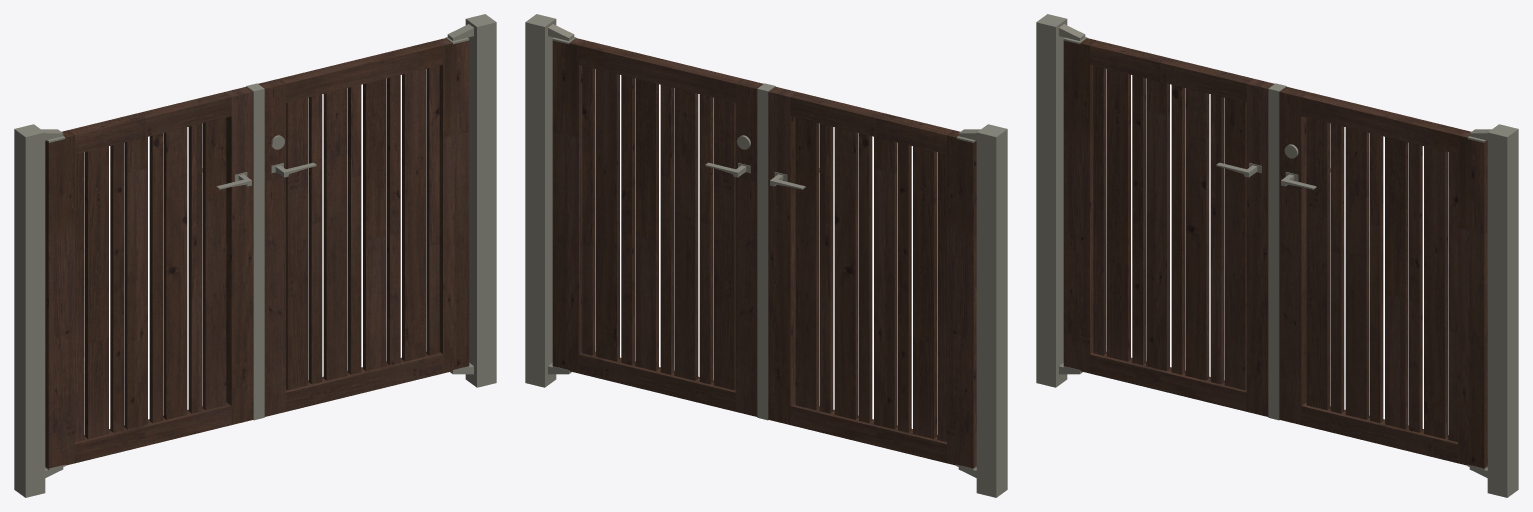
Rendered from awmonpi2-40-80tate_h1200-w800-800_darkpine.fbx.
3 renders of one model, left to right at view 1: azimuth 30°, elevation 25°; view 2: azimuth 150°, elevation 25°; view 3: azimuth 330°, elevation 25°, orthographic.
Parts seen in each view (by area): view 1: awmonpi2-40-80tate_h1200-w800-800_chacoalgray.002; view 2: awmonpi2-40-80tate_h1200-w800-800_chacoalgray.002; view 3: awmonpi2-40-80tate_h1200-w800-800_chacoalgray.002.
Boxes of the visible parts, bbox=[...] form: awmonpi2-40-80tate_h1200-w800-800_chacoalgray.002: bbox=[14, 14, 496, 497]; awmonpi2-40-80tate_h1200-w800-800_chacoalgray.002: bbox=[525, 14, 1007, 497]; awmonpi2-40-80tate_h1200-w800-800_chacoalgray.002: bbox=[1036, 14, 1518, 497].
Bounding box in the file's own units: 180 × 132 × 16.7.
2 materials, 2 textured.
